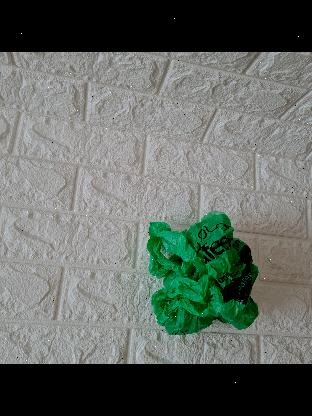Others: (142, 210, 258, 340)
